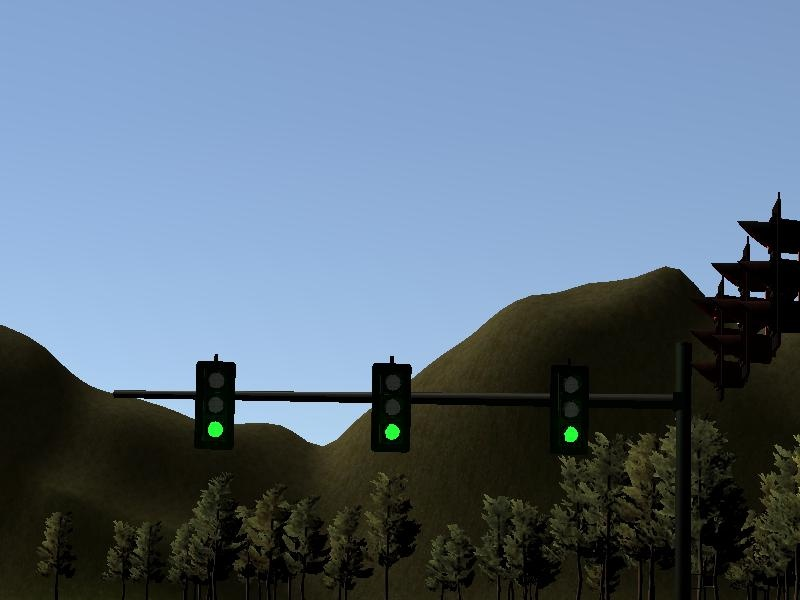GREEN: (190, 356, 239, 465), (367, 358, 415, 457), (550, 370, 596, 458)
